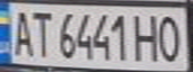1: (109, 10, 133, 61)
4: (90, 9, 112, 61), (72, 9, 93, 61)
6: (54, 8, 78, 60)
A: (6, 7, 36, 57)
H: (133, 10, 163, 62)
O: (154, 11, 187, 63)
T: (30, 7, 54, 58)
